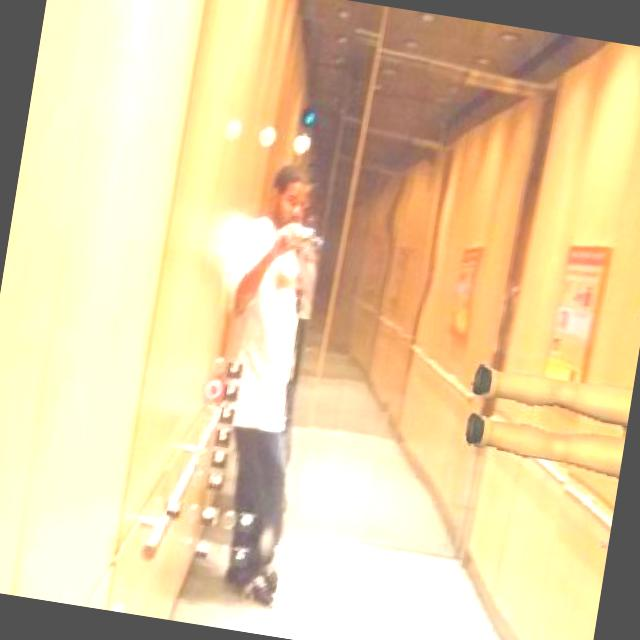Person: (456, 354, 634, 486)
